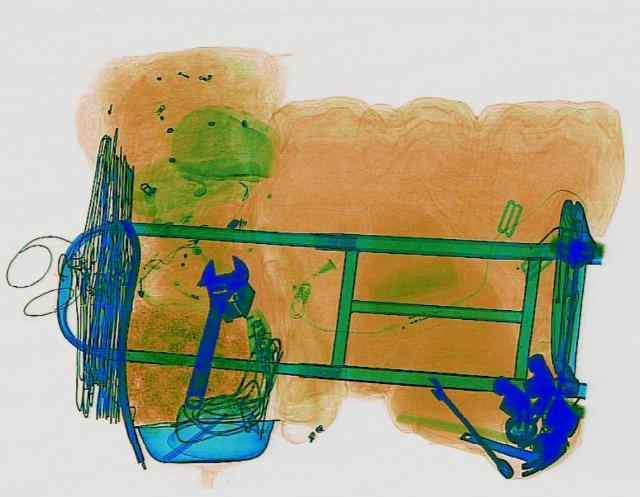Wrench: (168, 250, 252, 410), (422, 375, 516, 477)
